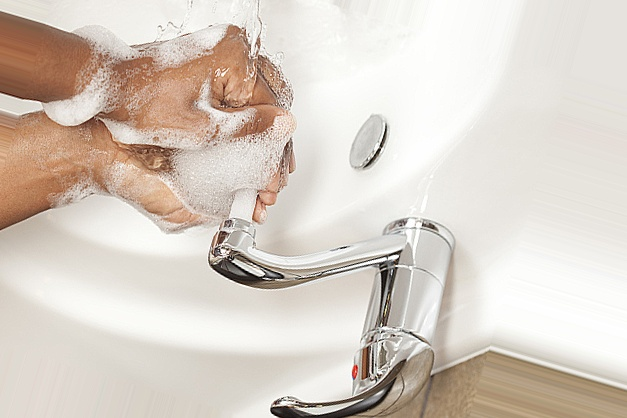washing hand: (0, 0, 468, 417)
